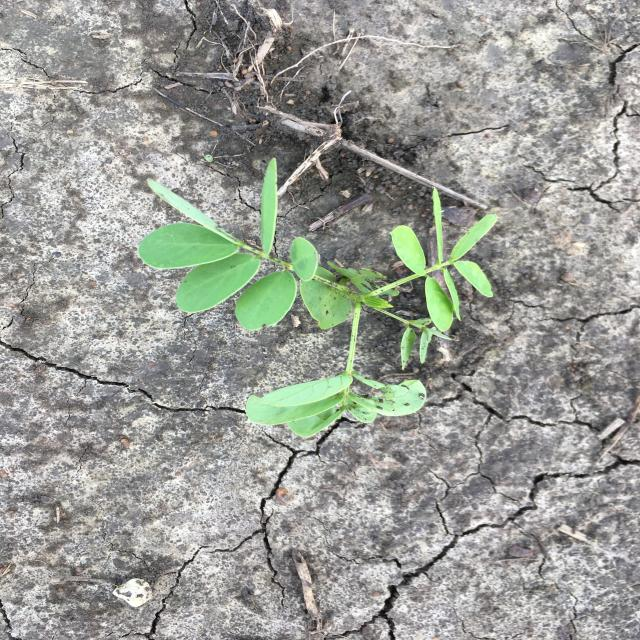Sicklepod: (132, 156, 502, 440)
